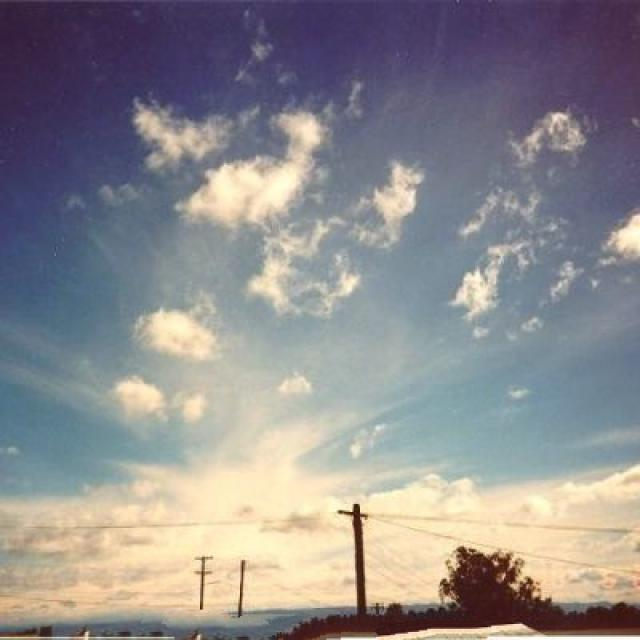Ci: (1, 32, 640, 452)
